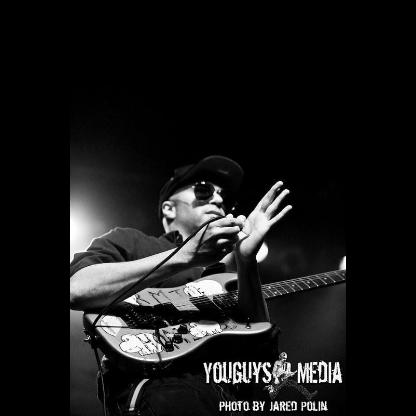guitar: (81, 251, 346, 371)
